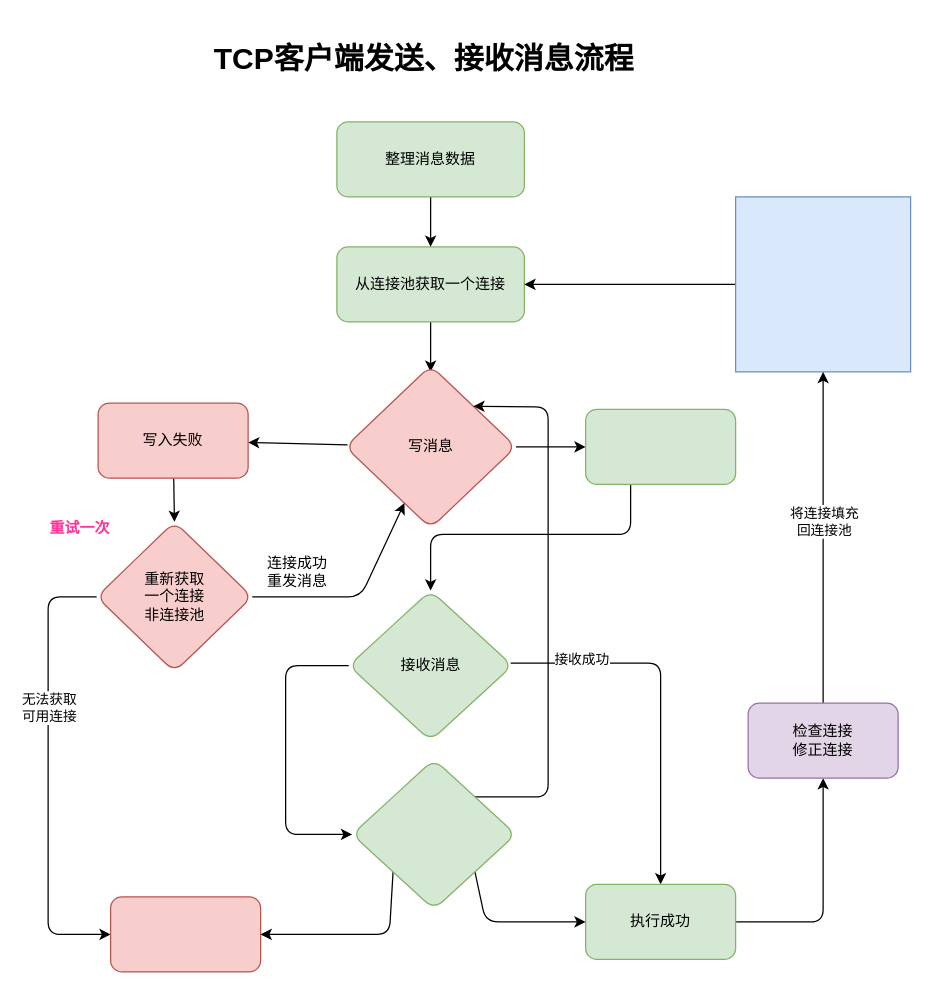
The diagram is 933 pixels wide and 994 high, and some of its shapes have lost their labels. The shapes that lost their labels are listed below. From the top down, each one's centre as x and y in pixels, then its label:
At (822,284): "TCP连接池".
At (660,446): "写入成功".
At (433,833): "接收失败 重试一次".
At (185,934): "执行失败".
